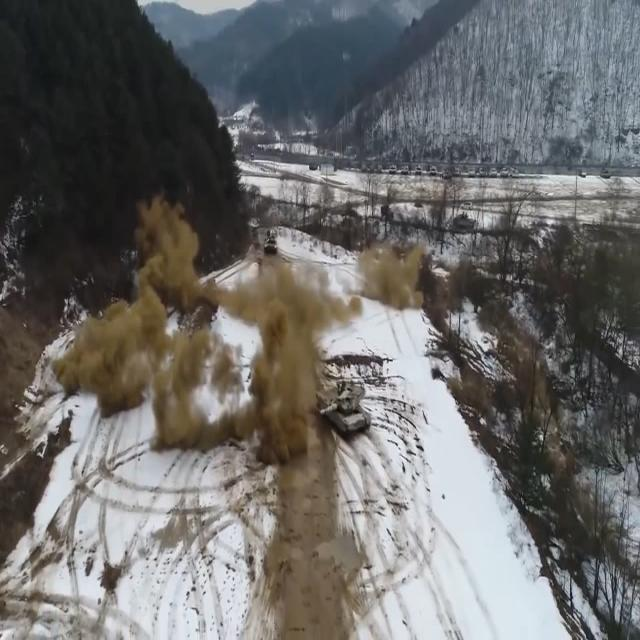korea tank: (314, 372, 372, 438)
